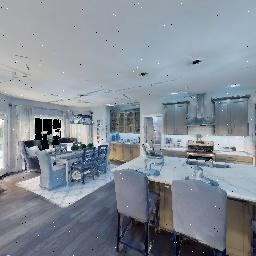chair: (161, 175, 235, 256), (110, 165, 163, 256), (30, 142, 70, 191), (72, 145, 95, 190), (90, 140, 113, 181)
table: (110, 137, 256, 254)
